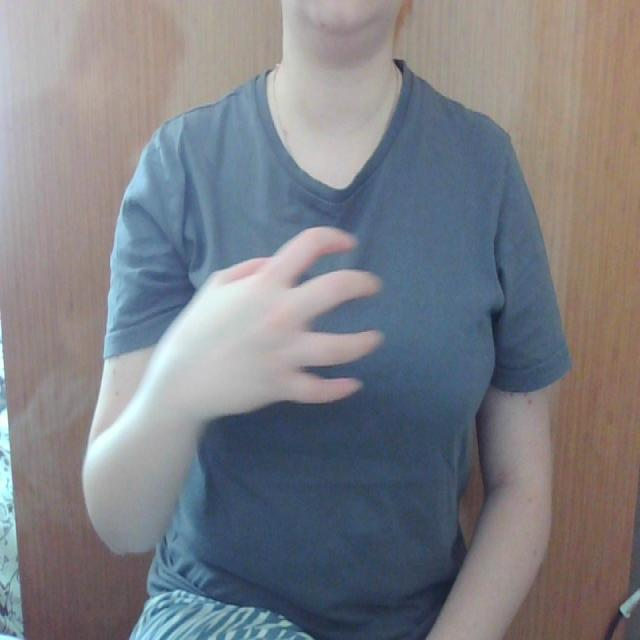Anne: (136, 190, 403, 426)
